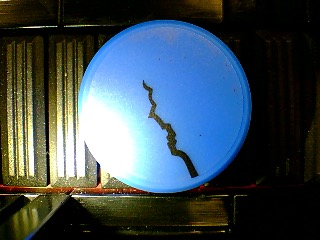CRACK: (77, 19, 252, 195)
